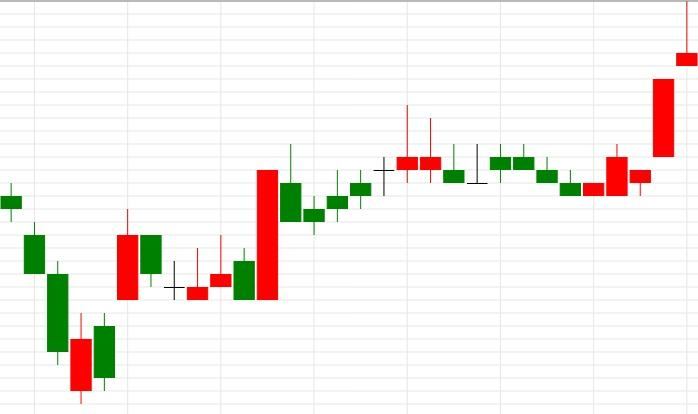inverse_hammer_rise: (116, 208, 209, 301)
shooting_star_fall: (582, 0, 698, 196)
three_black_crows_fall: (443, 143, 582, 197)
